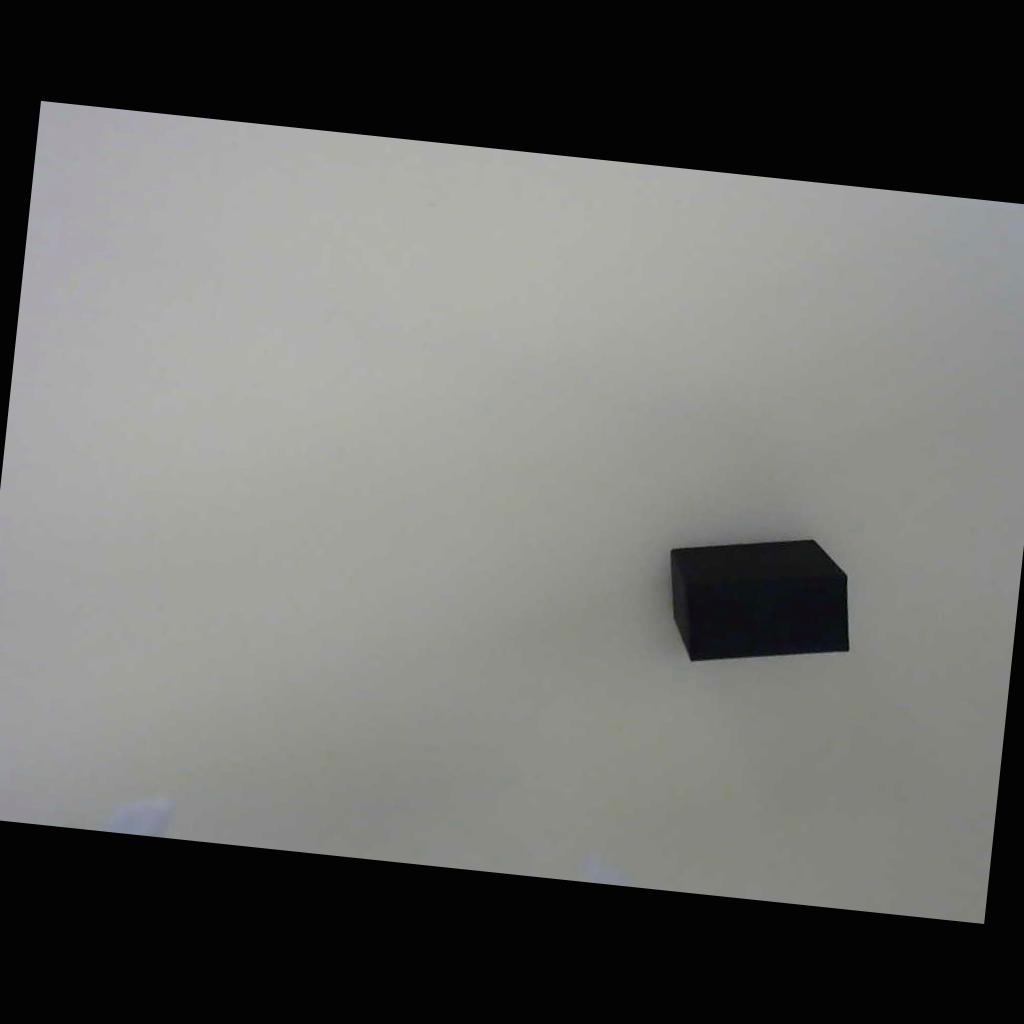rectangle: (652, 520, 861, 673)
